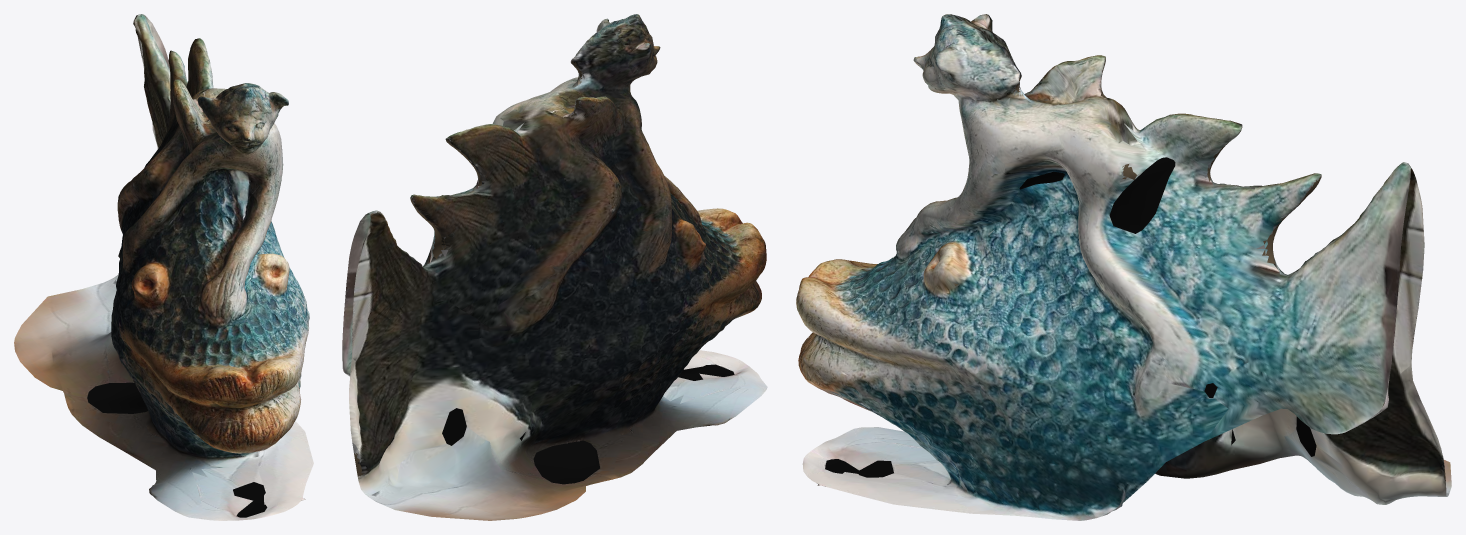
The model's file is childFish.obj.
3 renders of one model, left to right at view 1: azimuth 30°, elevation 25°; view 2: azimuth 150°, elevation 25°; view 3: azimuth 270°, elevation 25°, orthographic. The views are drawn at different scales.
Parts seen in each view (by area): view 1: childFish; view 2: childFish; view 3: childFish.
Boxes of the visible parts, x1,y1,x2,y2 form: childFish: (14,14,313,520); childFish: (342,14,767,520); childFish: (796,14,1451,520).
Size of the model in its own units: 8.6 by 14.58 by 18.05.
Materials: 3 (2 with a texture image).
